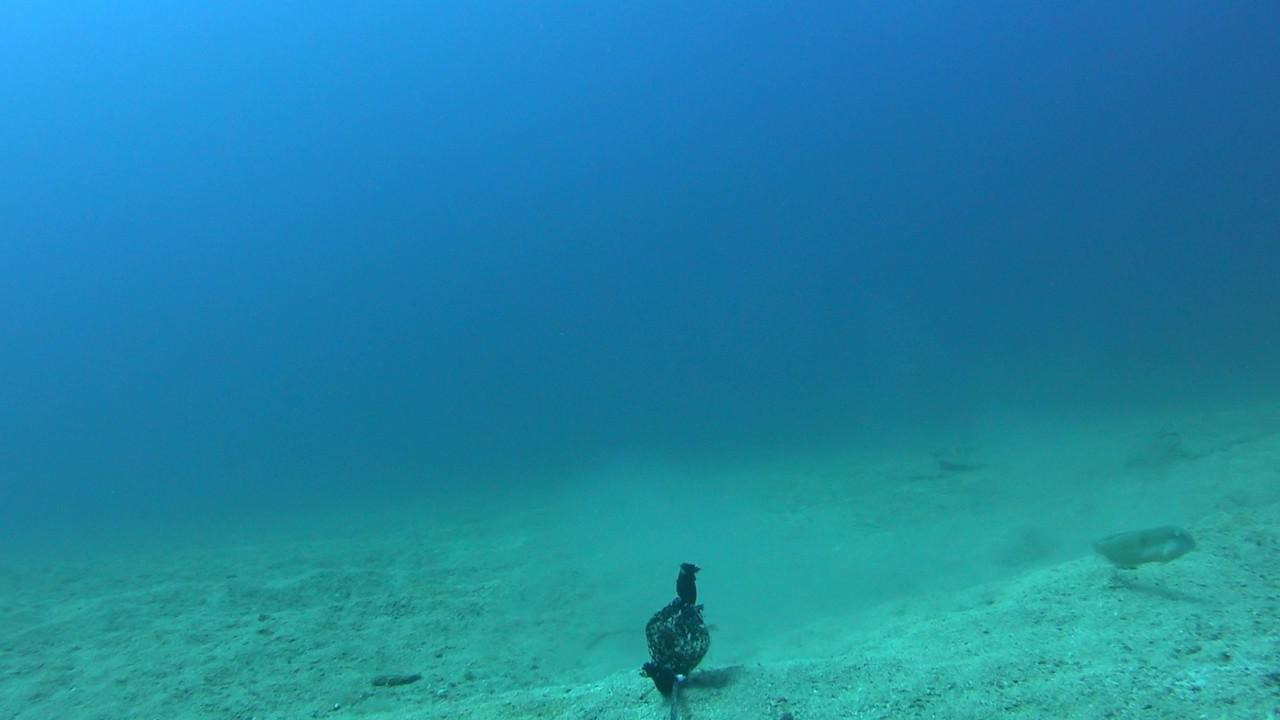myliobatis: (903, 436, 996, 476)
raor: (1090, 522, 1203, 572)
